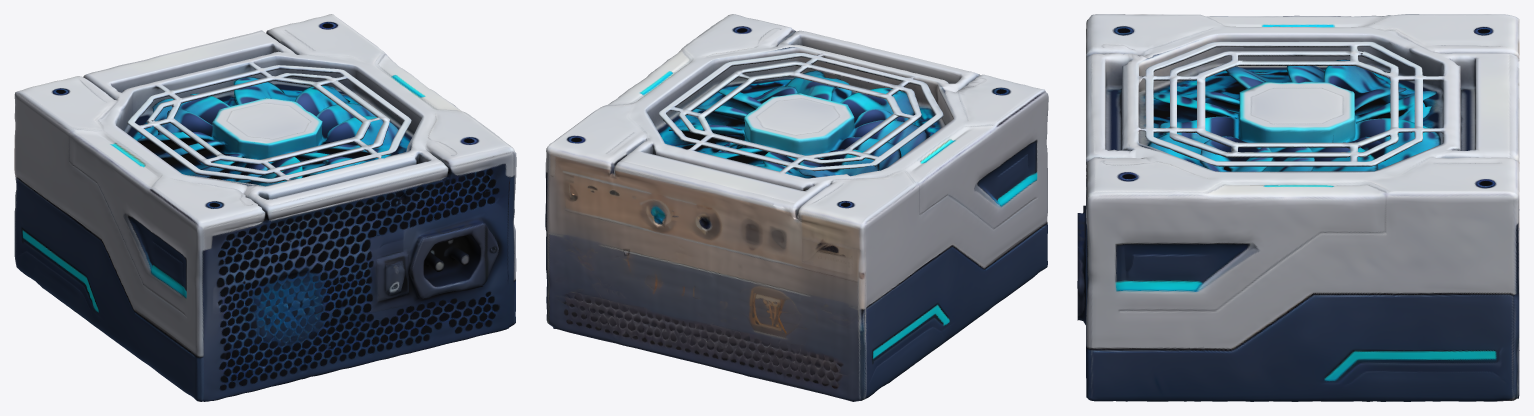
Rendered from powerSupplyNew.fbx.
3 views of the same model, side by side, from view 1: azimuth 30°, elevation 25°; view 2: azimuth 150°, elevation 25°; view 3: azimuth 270°, elevation 25° (orthographic). The views are drawn at different scales.
Visible parts, largest first — view 1: model.011; view 2: model.011; view 3: model.011.
Boxes of the visible parts, left/top/right/bottom form: model.011: left=14, top=14, right=516, bottom=401; model.011: left=545, top=14, right=1048, bottom=401; model.011: left=1077, top=14, right=1519, bottom=401.
Bounding box in the file's own units: 47.51 × 25.68 × 48.89.
Materials: 1 (1 with a texture image).
